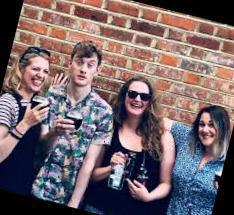Drunk: (71, 52, 99, 85), (125, 81, 150, 114), (27, 57, 49, 91), (198, 114, 217, 145)
